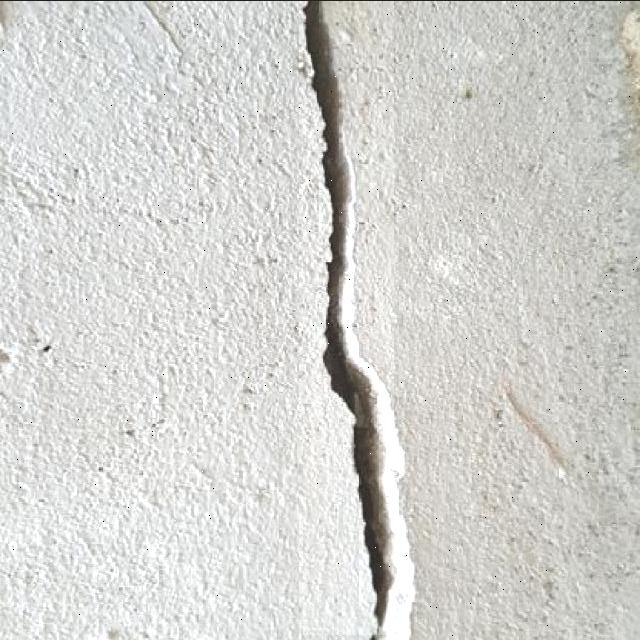crack: (349, 0, 640, 397), (0, 18, 131, 627), (301, 0, 416, 639), (573, 13, 638, 640), (495, 365, 640, 631), (76, 60, 265, 217), (306, 5, 448, 209), (269, 0, 348, 351), (120, 488, 315, 627), (113, 203, 302, 331), (435, 6, 623, 129), (317, 41, 372, 414), (1, 126, 80, 357), (6, 306, 192, 404), (1, 98, 138, 228), (155, 0, 315, 104), (7, 3, 176, 95), (85, 243, 206, 343), (585, 3, 640, 204), (109, 339, 221, 436), (216, 301, 311, 406), (285, 0, 325, 184), (139, 6, 191, 61), (181, 450, 225, 491), (621, 7, 640, 73), (1, 341, 21, 368), (336, 26, 354, 46), (255, 487, 269, 505)
dampens: (301, 2, 330, 41), (12, 195, 64, 213), (1, 2, 21, 37), (300, 1, 318, 22)
